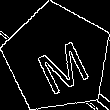M_NW: (26, 25, 89, 91)
